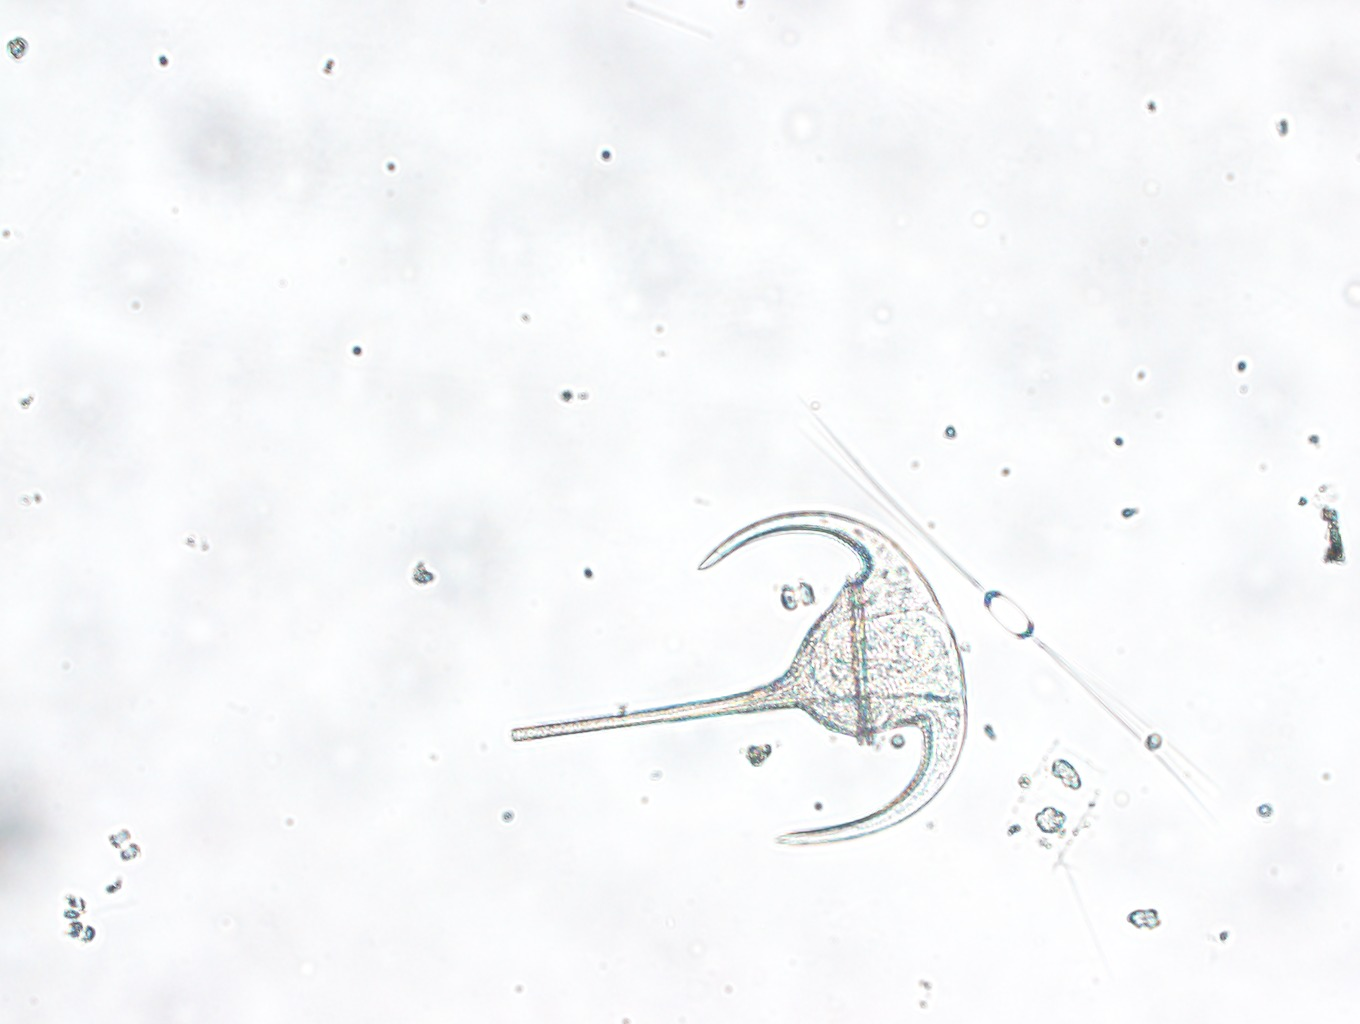ceratium tripos: (510, 510, 967, 847)
chaetoceros: (799, 406, 1218, 806), (1005, 733, 1102, 940)
